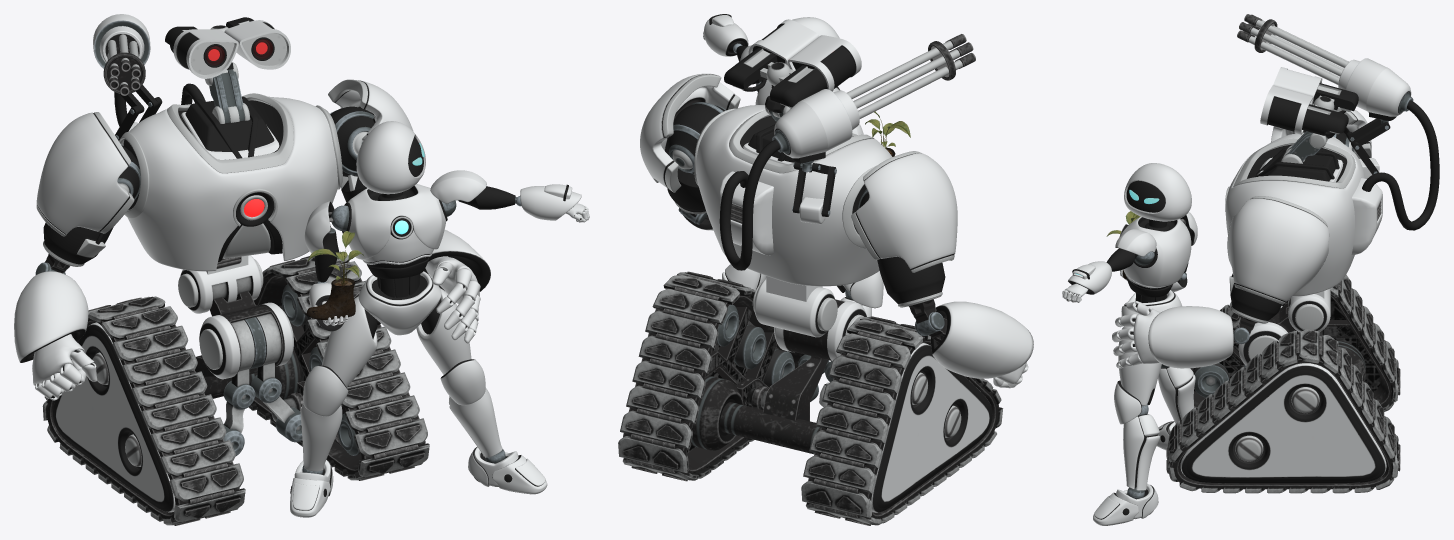
3 views of the same model, side by side, from view 1: azimuth 30°, elevation 25°; view 2: azimuth 150°, elevation 25°; view 3: azimuth 270°, elevation 25° (orthographic). The views are drawn at different scales.
Visible parts, largest first — view 1: wall-e bottom.001_39, body_38, top_right_hand_37, bottom_right_hand_35, eve body_25, head_30, gun_28, top_left_hand_34, bottom_left_hand_32, eve head_1, bottom_center_17, right_top_leg_15 (+15 smaller); view 2: wall-e bottom.001_39, body_38, top_right_hand_37, gun_28, top_left_hand_34, head_30, bottom_right_hand_35, gun_cable_29, left_bottom_hand_19, right_knee_13, left_bottom_leg_5, boot_0 (+2 smaller); view 3: wall-e bottom.001_39, body_38, top_left_hand_34, gun_28, bottom_left_hand_32, head_30, eve body_25, eve head_1, gun_cable_29, left_bottom_leg_5, left_shoes_3, right_bottom_leg_12 (+7 smaller).
Boxes of the visible parts, bbox=[...] form: wall-e bottom.001_39: bbox=[42, 251, 429, 525]; body_38: bbox=[119, 93, 342, 271]; top_right_hand_37: bbox=[36, 112, 140, 273]; bottom_right_hand_35: bbox=[14, 271, 97, 400]; eve body_25: bbox=[342, 184, 447, 278]; head_30: bbox=[165, 17, 290, 78]; gun_28: bbox=[93, 14, 162, 140]; top_left_hand_34: bbox=[328, 79, 413, 202]; bottom_left_hand_32: bbox=[424, 230, 490, 343]; eve head_1: bbox=[356, 121, 425, 194]; bottom_center_17: bbox=[358, 271, 441, 335]; right_top_leg_15: bbox=[321, 296, 377, 387]; wall-e bottom.001_39: bbox=[618, 271, 1003, 525]; body_38: bbox=[694, 105, 892, 286]; top_right_hand_37: bbox=[851, 151, 957, 323]; gun_28: bbox=[772, 34, 975, 216]; top_left_hand_34: bbox=[640, 73, 740, 216]; head_30: bbox=[724, 19, 861, 108]; bottom_right_hand_35: bbox=[929, 301, 1033, 388]; gun_cable_29: bbox=[719, 139, 780, 270]; left_bottom_hand_19: bbox=[703, 14, 748, 56]; right_knee_13: bbox=[850, 271, 883, 308]; left_bottom_leg_5: bbox=[722, 264, 766, 290]; boot_0: bbox=[865, 111, 910, 156]; wall-e bottom.001_39: bbox=[1166, 274, 1400, 493]; body_38: bbox=[1225, 132, 1382, 296]; top_left_hand_34: bbox=[1227, 196, 1329, 334]; gun_28: bbox=[1237, 14, 1413, 174]; bottom_left_hand_32: bbox=[1112, 301, 1236, 368]; head_30: bbox=[1260, 67, 1358, 135]; eve body_25: bbox=[1118, 216, 1191, 297]; eve head_1: bbox=[1124, 163, 1191, 221]; gun_cable_29: bbox=[1362, 100, 1439, 230]; left_bottom_leg_5: bbox=[1123, 414, 1159, 490]; left_shoes_3: bbox=[1093, 484, 1158, 525]; right_bottom_leg_12: bbox=[1158, 366, 1195, 423].
Bounding box in the file's own units: 9.22 × 8.74 × 7.97.
Materials: 3 (3 with a texture image).
